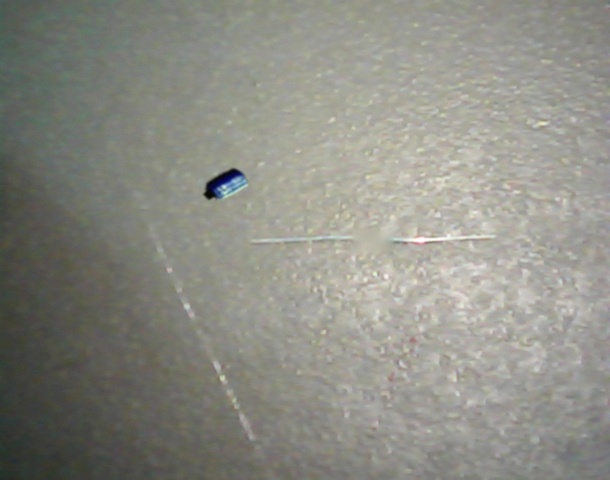capacitor: (203, 168, 249, 200)
